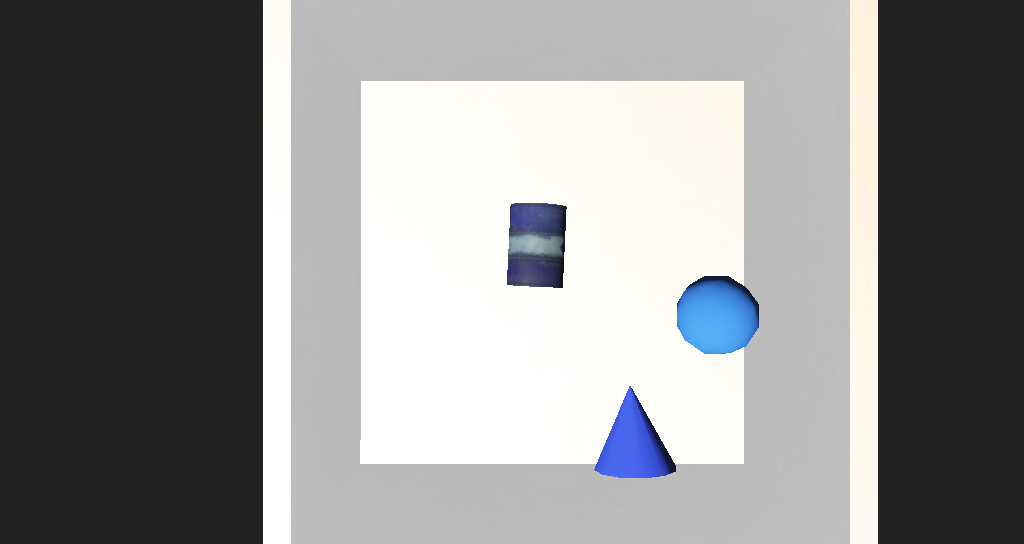cone: (465, 229, 519, 277)
cylinder: (532, 324, 600, 382)
sphere: (603, 267, 664, 315)
